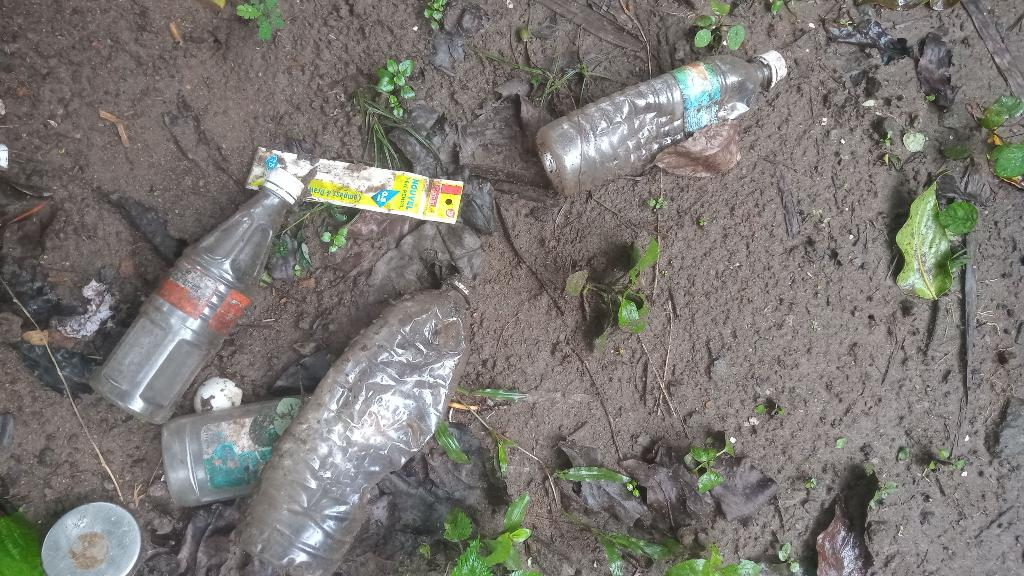garbage: (528, 37, 796, 197), (152, 142, 260, 443), (236, 137, 467, 233), (154, 393, 315, 508), (0, 0, 0, 0)
